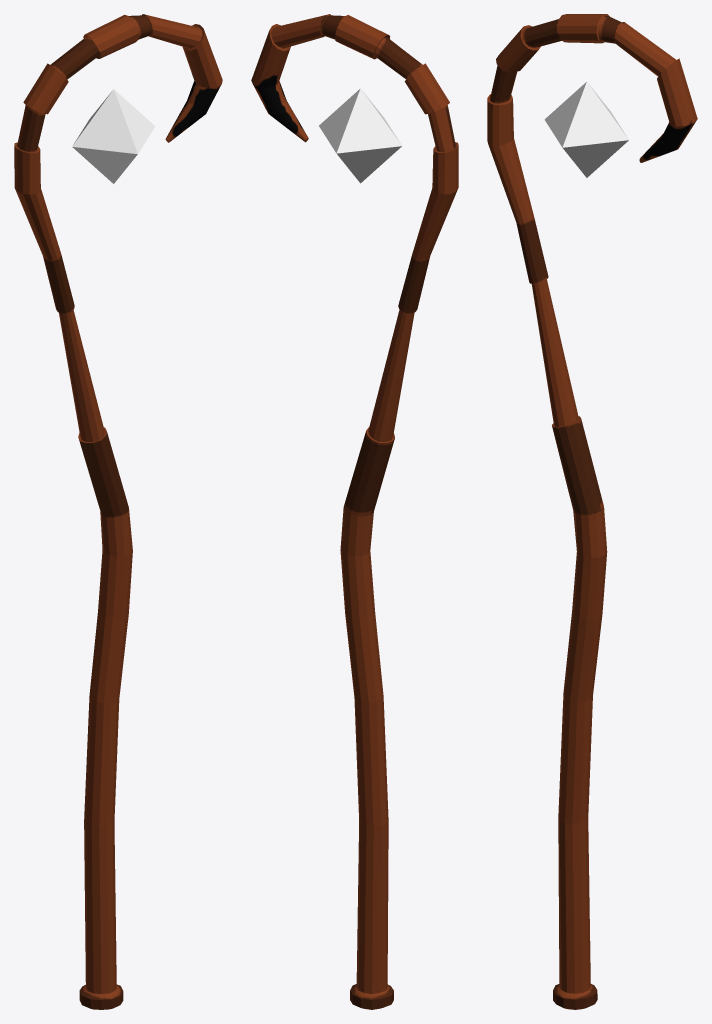
File: Staff.fbx
3 renders of one model, left to right at view 1: azimuth 30°, elevation 25°; view 2: azimuth 150°, elevation 25°; view 3: azimuth 330°, elevation 25°, orthographic.
Visible parts, largest first — view 1: Staff:pCone2; view 2: Staff:pCone2; view 3: Staff:pCone2.
Part boxes in pixels (x1=…): Staff:pCone2: x1=14, y1=14, x2=222, y2=1009; Staff:pCone2: x1=251, y1=14, x2=458, y2=1009; Staff:pCone2: x1=487, y1=14, x2=697, y2=1009.
Size of the model in its own units: 2.69 by 12.42 by 1.11.
Materials: 2 (2 with a texture image).
